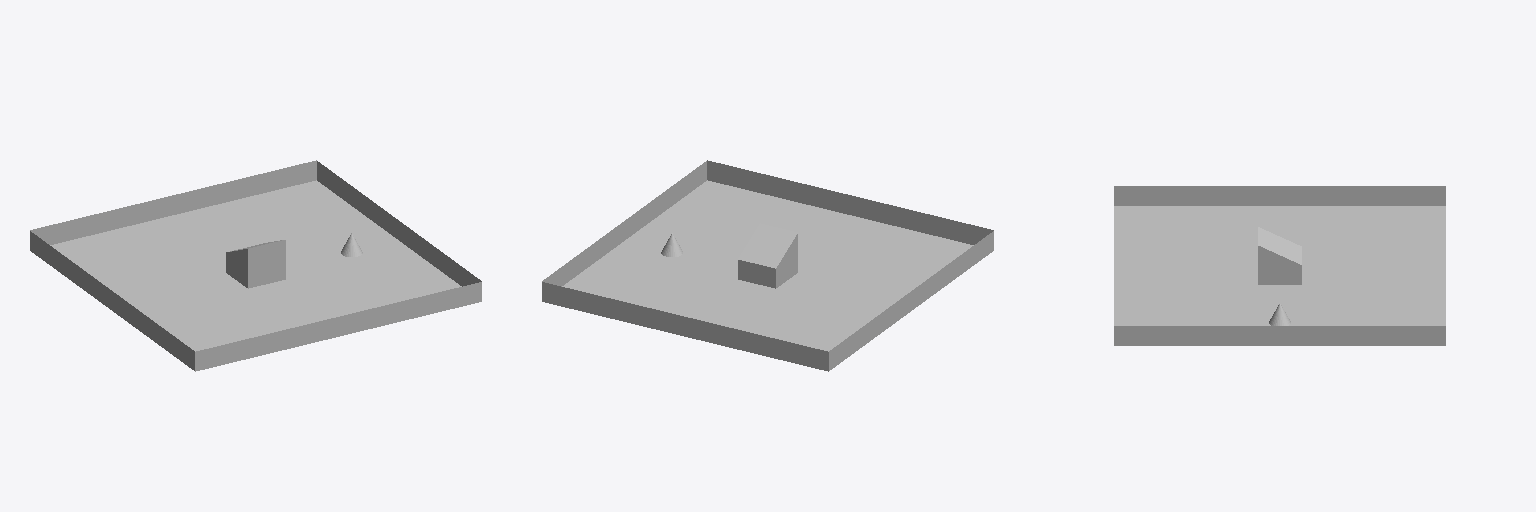
The model's file is terrain test3.obj.
3 renders of one model, left to right at view 1: azimuth 30°, elevation 25°; view 2: azimuth 150°, elevation 25°; view 3: azimuth 270°, elevation 25°, orthographic.
Parts seen in each view (by area): view 1: ground_Plane, wall.002_Plane.003, wall_Plane.001, wall.001_Plane.002, wall.003_Plane.004, block_Cube.001; view 2: ground_Plane, wall_Plane.001, wall.002_Plane.003, wall.001_Plane.002, wall.003_Plane.004, block_Cube.001; view 3: ground_Plane, wall.001_Plane.002, wall.003_Plane.004, block_Cube.001.
Part boxes in pixels (x1,y1,x2,y2): ground_Plane: (50,180,461,351); wall.002_Plane.003: (195,282,481,371); wall_Plane.001: (30,160,316,244); wall.001_Plane.002: (30,231,194,370); wall.003_Plane.004: (317,161,481,286); block_Cube.001: (226,240,285,288); ground_Plane: (562,180,973,351); wall_Plane.001: (542,282,828,371); wall.002_Plane.003: (707,160,993,244); wall.001_Plane.002: (829,231,993,370); wall.003_Plane.004: (542,161,706,286); block_Cube.001: (738,223,797,288); ground_Plane: (1114,206,1445,325); wall.001_Plane.002: (1114,186,1445,205); wall.003_Plane.004: (1114,326,1445,345); block_Cube.001: (1258,227,1301,284).
Size of the model in its own units: 30 by 4 by 30.